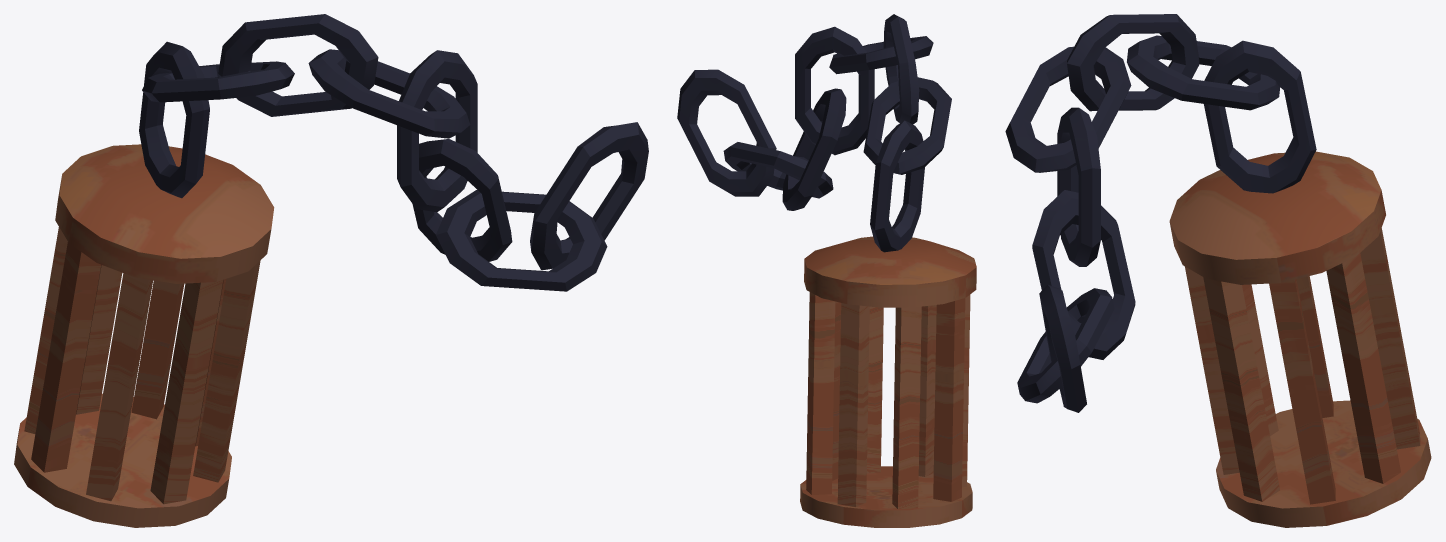
The model's file is mdlIfritItem.fbx.
3 views of the same model, side by side, from view 1: azimuth 30°, elevation 25°; view 2: azimuth 150°, elevation 25°; view 3: azimuth 270°, elevation 25° (orthographic). The views are drawn at different scales.
Visible parts, largest first — view 1: MeshLavaPillar; view 2: MeshLavaPillar; view 3: MeshLavaPillar.
Part boxes in pixels (left/top/right/bottom): MeshLavaPillar: left=14, top=14, right=648, bottom=527; MeshLavaPillar: left=677, top=14, right=976, bottom=527; MeshLavaPillar: left=1005, top=14, right=1431, bottom=527.
Size of the model in its own units: 2 by 2.08 by 1.54.
1 material, 1 textured.
